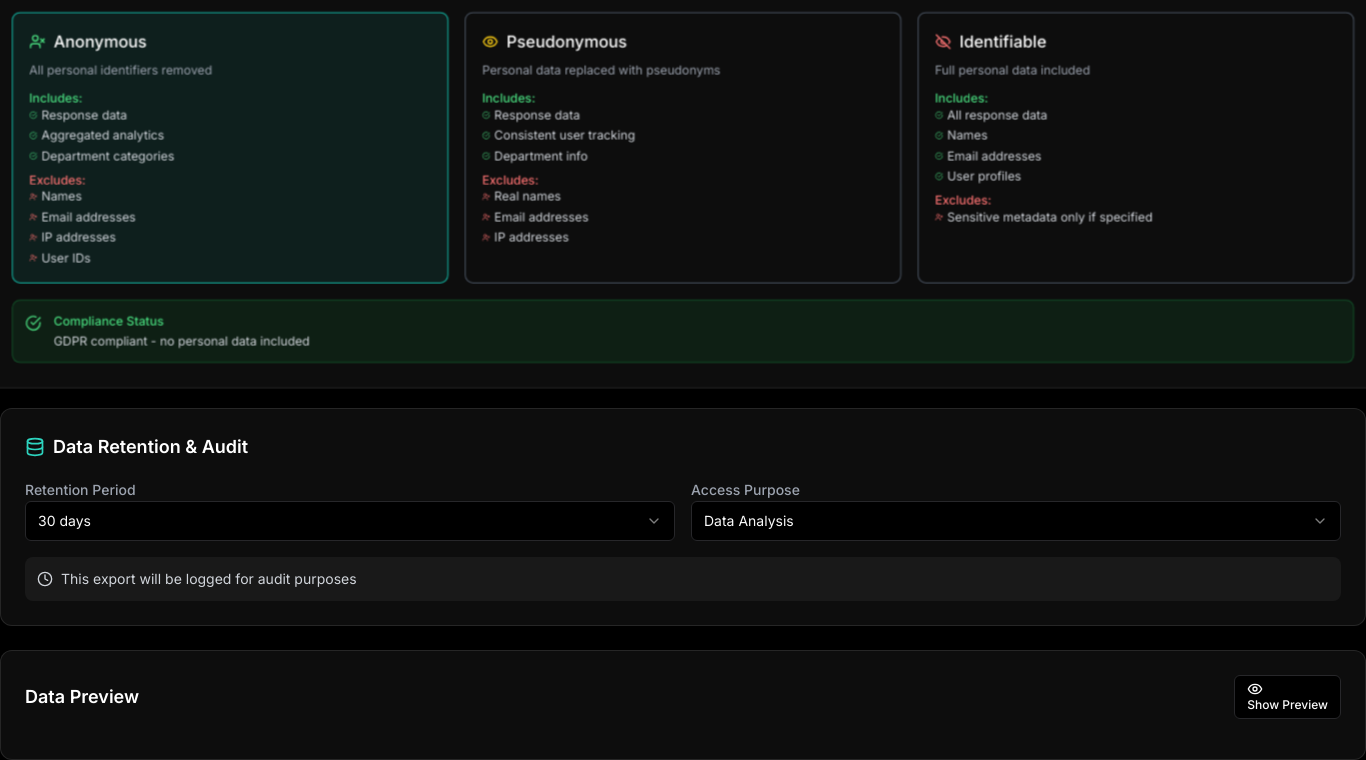
Test case: PrivacyControls › Data Preview Section › toggles data preview visibility
(page scrolled)
Click the button "Show Preview": (1288, 697) [1234,675,1341,719]
(page scrolled)
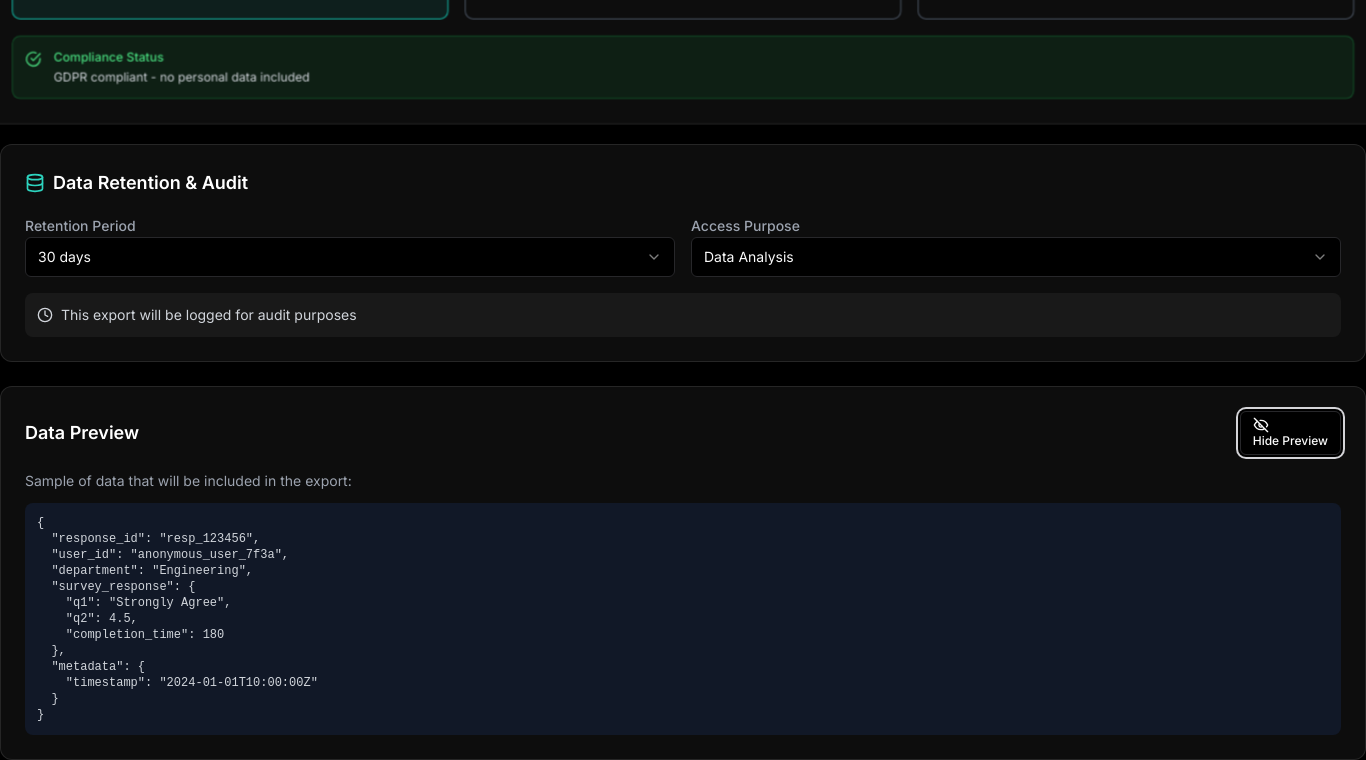
Check: the text "Sample of data that will be included in the export:" is shown, box [25,472,352,489]
Check: the button "Hide Preview" is shown, box [1240,411,1341,455]
Check: the text "\"user_id\": \"anonymous_user_7f3a\"" is shown, box [37,516,318,722]
